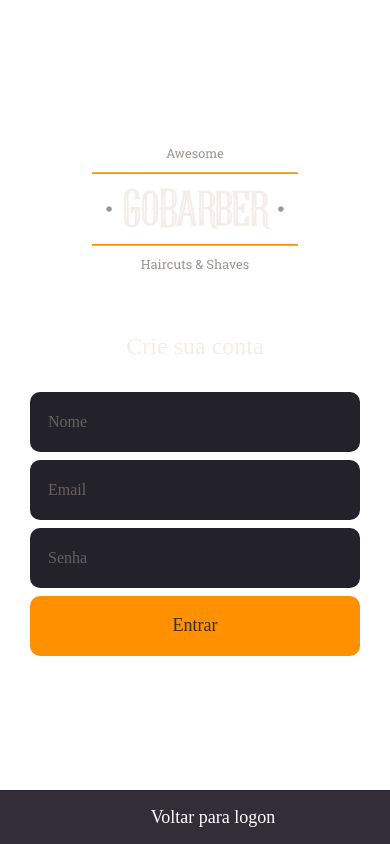
Test: SignUp page › should be not able to register yourself with invalid data
The width and height of the screenshot is (390, 844).
Type "invalid-email" into the field with placeholder "Email".
click(195, 490); type("invalid-email")  # box [48,480,342,498]
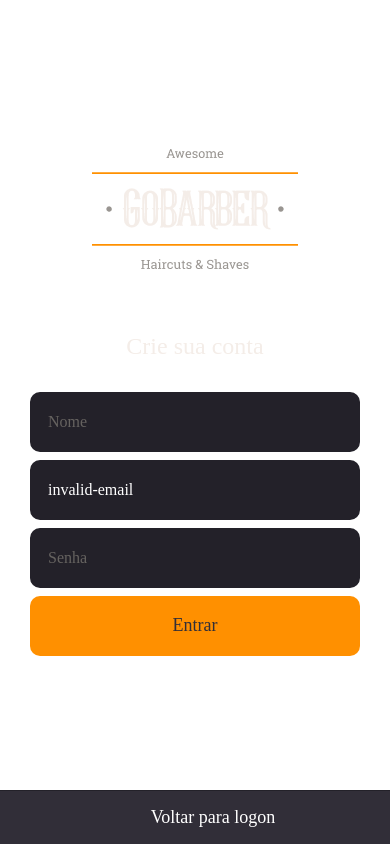
Type "1" into the password field with placeholder "Senha".
click(195, 558); type("1")  # box [48,548,342,566]
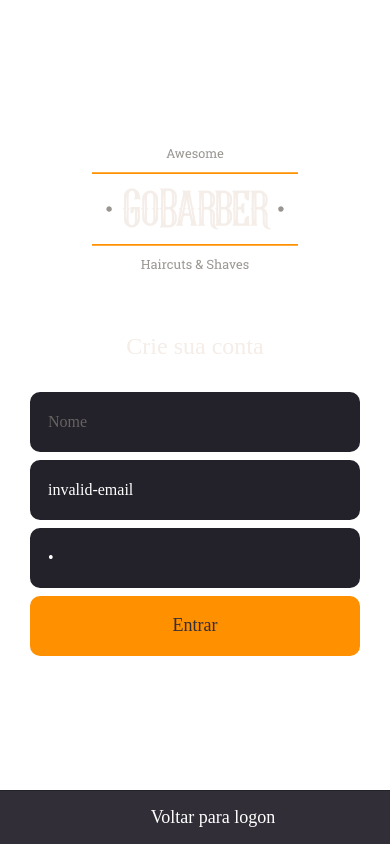
Click the button with test id "submit".
click(195, 626)  # box [30,596,360,656]
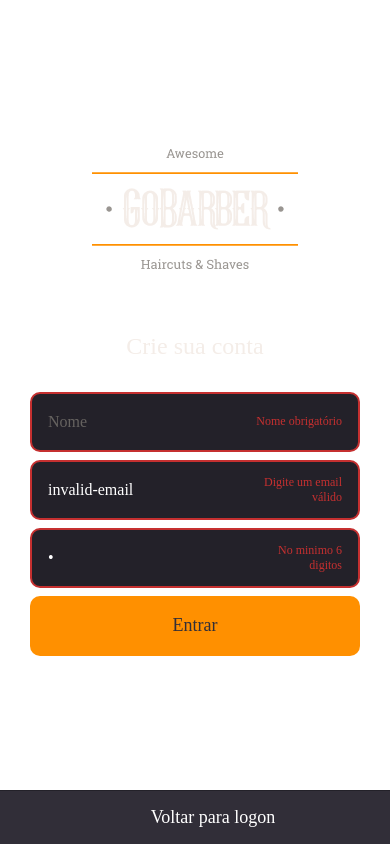
Expected: the text "Digite um email válido" is shown, [248,474,342,504]
Expected: the text "No minimo 6 digitos" is shown, [278,542,345,572]
